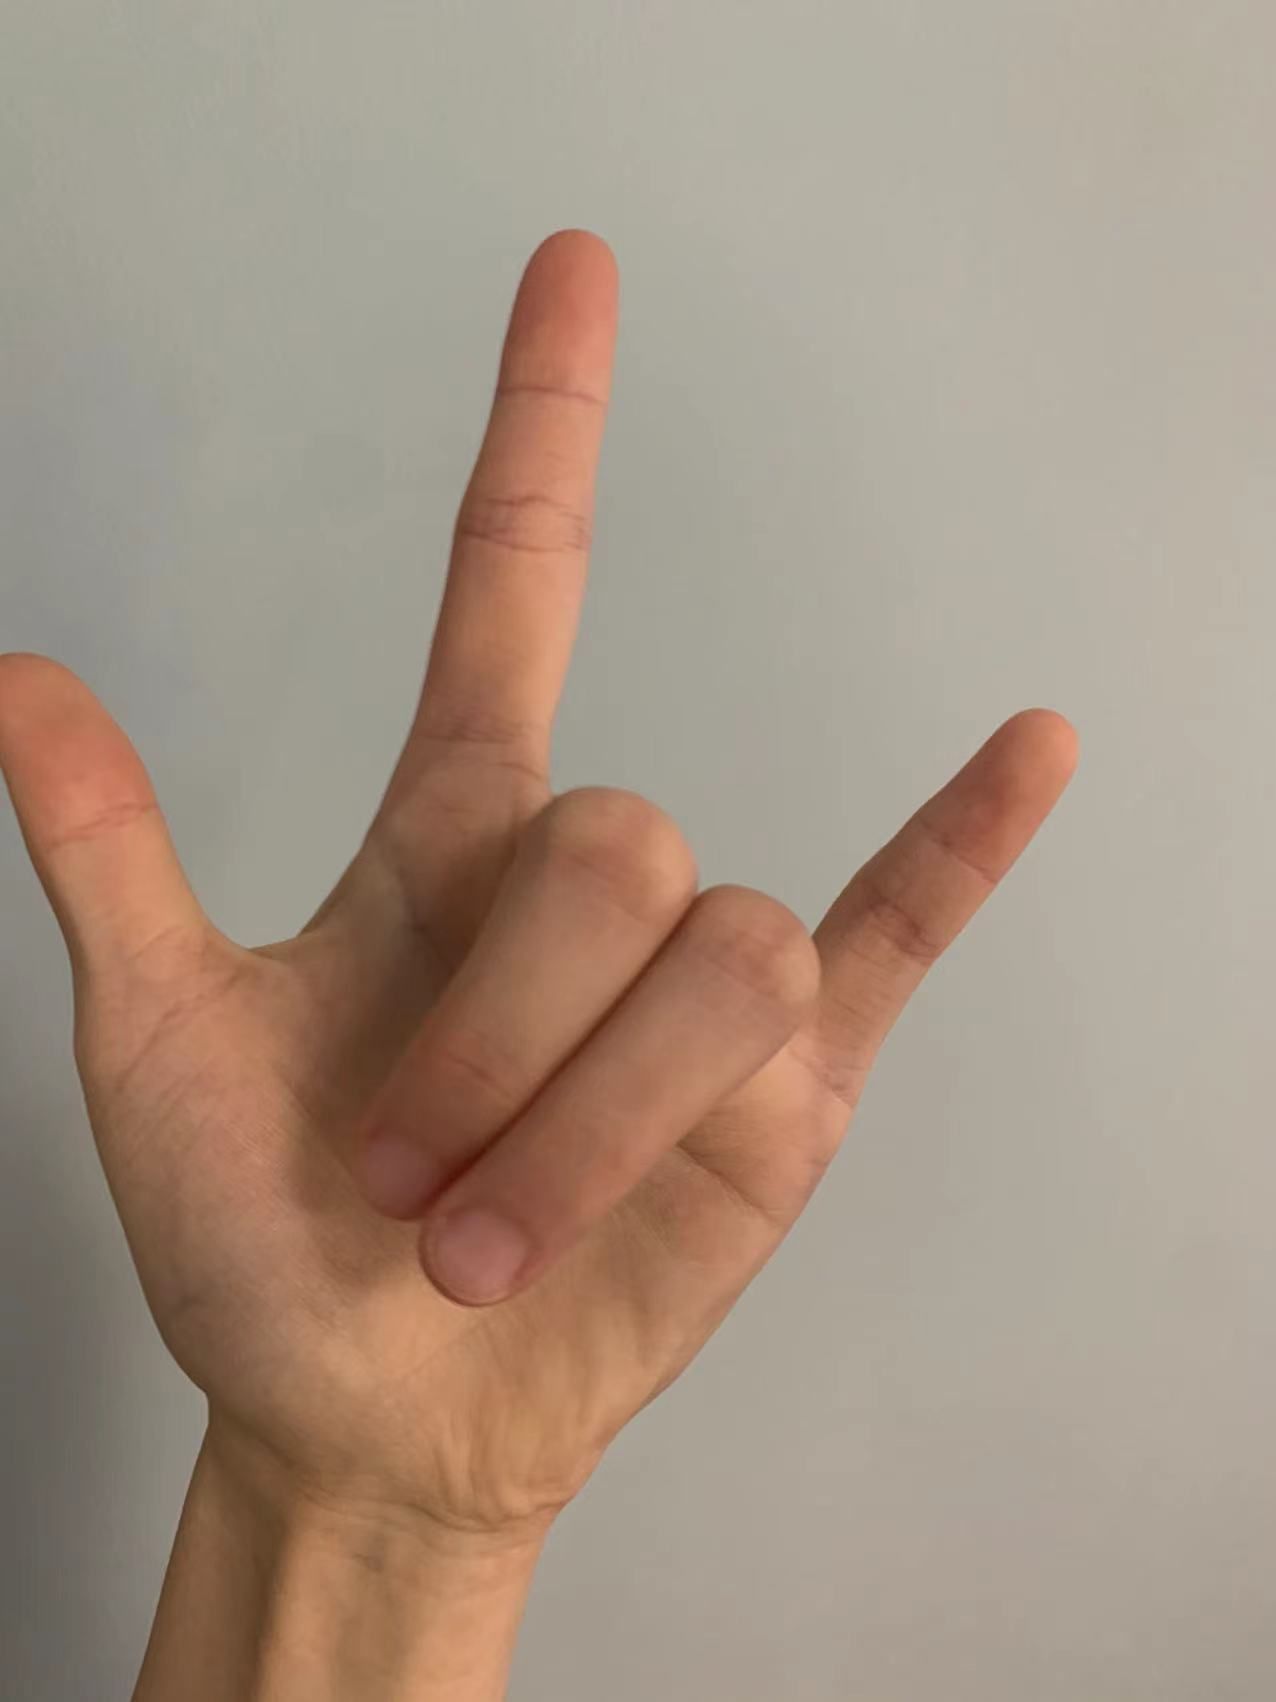back: (23, 222, 1104, 1502)
